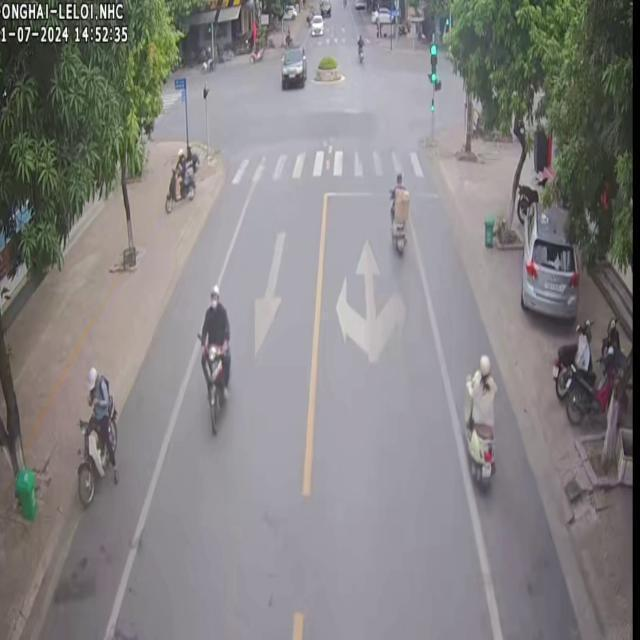car: (519, 194, 578, 318), (279, 45, 304, 87)
green_light: (427, 40, 435, 85)
motobike: (563, 316, 622, 422), (76, 365, 118, 502), (197, 282, 228, 431), (463, 354, 496, 487), (550, 318, 590, 398), (163, 145, 197, 211), (388, 171, 408, 254)
stop_line: (323, 189, 436, 196)
